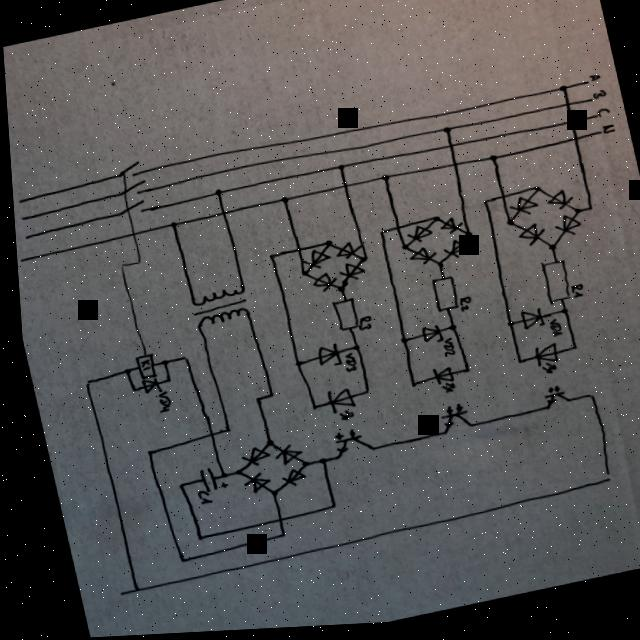capacitor: (190, 466, 222, 496)
crossover: (442, 145, 456, 157), (197, 430, 211, 442), (562, 122, 575, 134), (493, 197, 506, 209), (288, 247, 301, 259), (387, 226, 400, 238), (565, 140, 579, 151), (446, 164, 460, 175), (335, 184, 349, 195), (214, 210, 228, 221), (265, 517, 279, 528), (558, 106, 571, 117)
diode: (548, 217, 580, 245), (295, 250, 329, 276), (511, 227, 543, 254), (540, 193, 573, 219), (266, 444, 298, 470), (232, 447, 266, 471), (504, 199, 536, 224), (234, 473, 266, 498), (402, 248, 434, 272), (309, 345, 337, 372), (305, 274, 335, 298), (329, 243, 360, 265), (513, 312, 541, 336), (438, 242, 467, 265), (272, 469, 300, 492), (334, 264, 362, 286), (401, 227, 430, 248), (433, 220, 461, 241), (414, 328, 438, 350), (135, 378, 157, 398)
junction: (594, 477, 607, 489), (483, 158, 497, 169), (474, 202, 488, 213), (499, 223, 513, 234), (439, 129, 452, 140), (376, 177, 389, 188), (331, 166, 345, 176), (554, 90, 567, 100), (527, 189, 540, 199), (456, 370, 467, 379), (579, 398, 590, 407), (319, 241, 330, 250), (210, 190, 221, 199), (461, 427, 472, 436), (362, 448, 373, 457), (511, 362, 521, 371), (501, 324, 511, 333), (428, 219, 438, 228), (262, 255, 272, 264), (355, 259, 365, 268), (332, 288, 342, 297), (346, 346, 356, 355), (288, 362, 298, 371), (165, 222, 175, 231), (175, 356, 185, 365), (569, 213, 580, 221), (563, 349, 574, 357), (355, 391, 366, 399), (155, 359, 166, 367), (557, 404, 568, 412), (535, 411, 546, 419), (432, 433, 443, 441), (324, 458, 335, 466), (582, 210, 592, 218), (543, 249, 553, 257), (554, 313, 564, 321), (443, 328, 453, 336), (432, 265, 442, 273), (460, 235, 470, 243), (403, 384, 413, 392), (394, 340, 404, 348), (373, 233, 383, 241), (277, 199, 287, 207), (296, 272, 306, 280), (305, 406, 315, 414), (261, 394, 271, 402), (187, 536, 197, 544), (292, 463, 302, 471), (124, 586, 134, 594), (311, 460, 321, 468), (396, 247, 406, 255), (159, 377, 168, 385), (118, 368, 127, 376), (139, 450, 148, 458), (213, 473, 222, 481), (172, 557, 181, 565), (228, 470, 237, 478), (262, 493, 272, 500), (125, 387, 134, 394), (79, 380, 88, 387), (217, 428, 226, 435), (247, 398, 256, 405), (259, 441, 268, 448), (171, 484, 180, 491), (271, 535, 280, 542), (322, 507, 331, 514)
resistor: (534, 265, 568, 312), (424, 280, 455, 318), (325, 300, 356, 336)
switch: (112, 179, 149, 201), (110, 161, 144, 183), (114, 199, 148, 219)
terminal: (13, 215, 28, 223), (16, 233, 31, 241), (578, 85, 591, 94), (587, 118, 600, 127), (11, 197, 25, 205), (584, 101, 597, 109), (591, 135, 604, 143), (13, 255, 26, 263)
text: (148, 392, 167, 415), (335, 355, 353, 378), (435, 341, 451, 362), (350, 319, 368, 337), (543, 324, 558, 344), (189, 490, 205, 507), (565, 289, 581, 305), (453, 301, 469, 317), (133, 360, 147, 374), (590, 95, 605, 107), (598, 130, 614, 141), (593, 114, 609, 124), (585, 79, 600, 89)
transformer: (181, 284, 252, 337)
